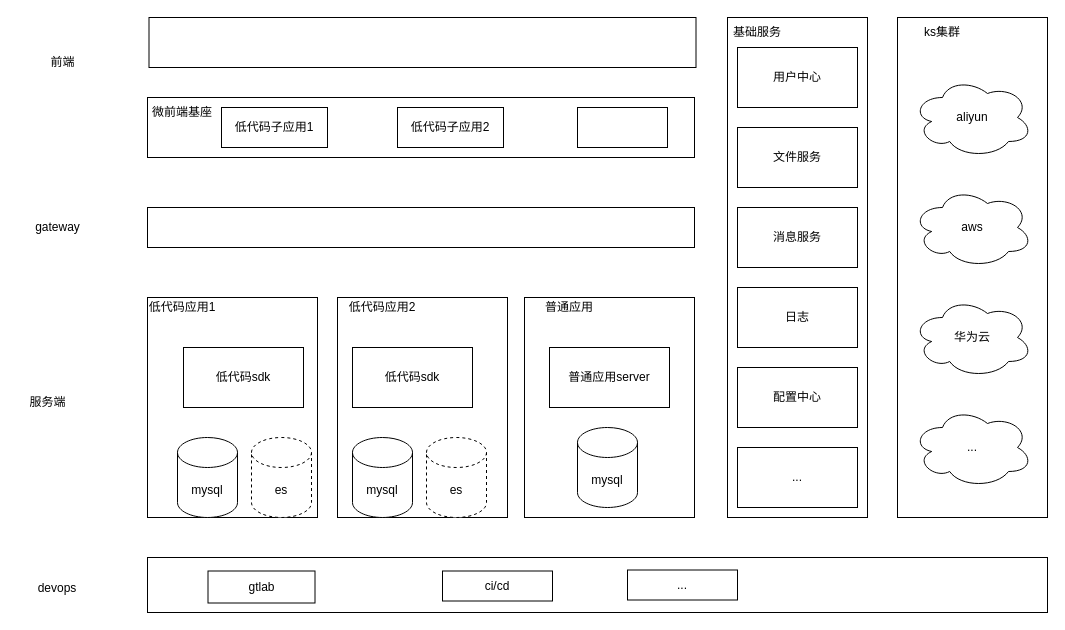
The diagram is 1065 pixels wide and 630 high, and some of its shapes have lost their labels. Each missing label, with the centre of its shape:
"普通子应用" belongs at point 622,127.
"统一登录平台" belongs at point 422,42.
"网关路由" belongs at point 420,227.
